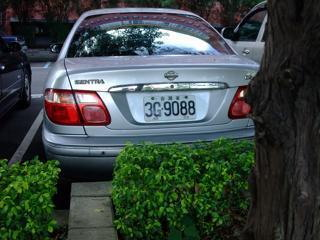plate: (141, 93, 198, 121)
